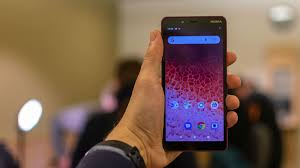nokia: (155, 11, 233, 153)
